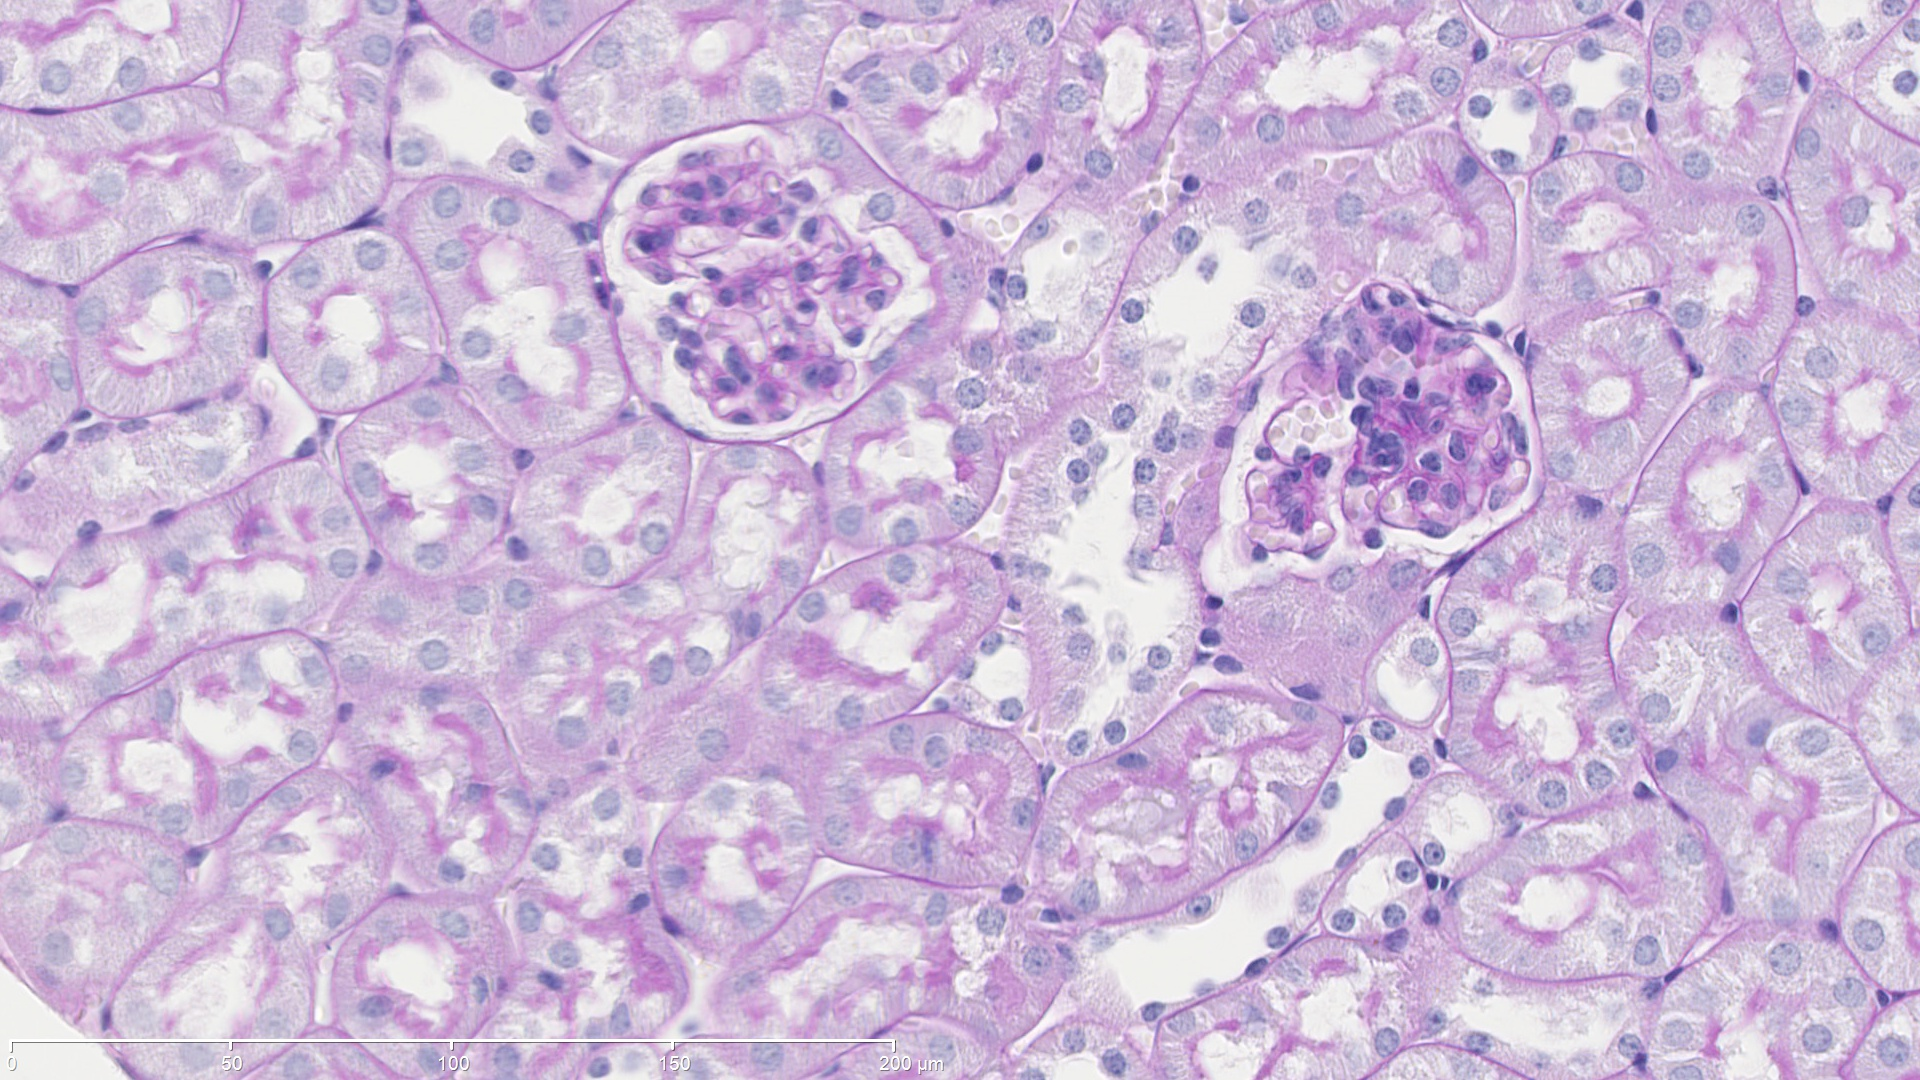Glomeruli: (584, 117, 938, 435), (1229, 270, 1559, 558)
